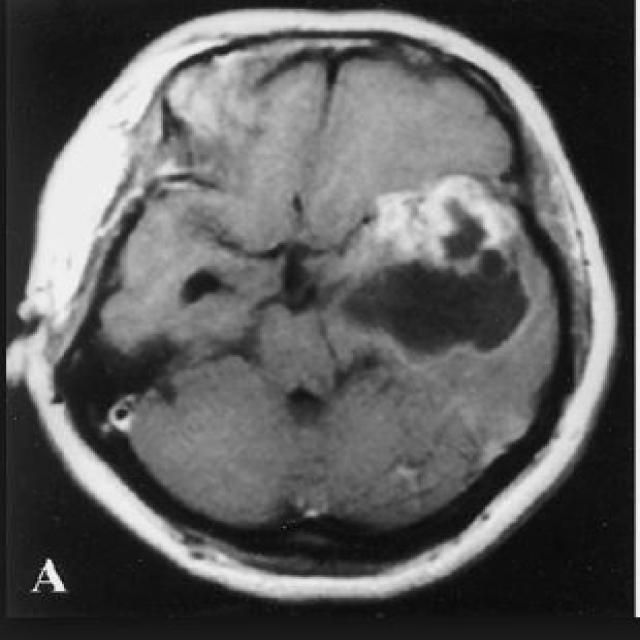Tumor-Cell: (370, 162, 507, 291)
